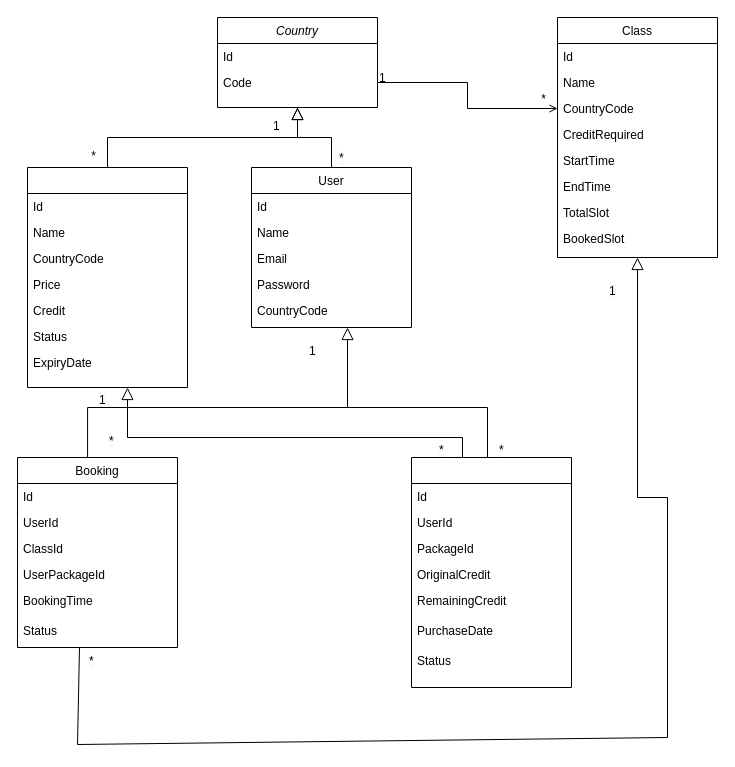
Some shapes in this 735 by 767 pixel diagram are drawn without their labels. The box of each missing label's shape, as (x1, y1, x2, y2) in pixels:
Package: (26, 166, 188, 388)
UserPackage: (410, 456, 572, 688)
